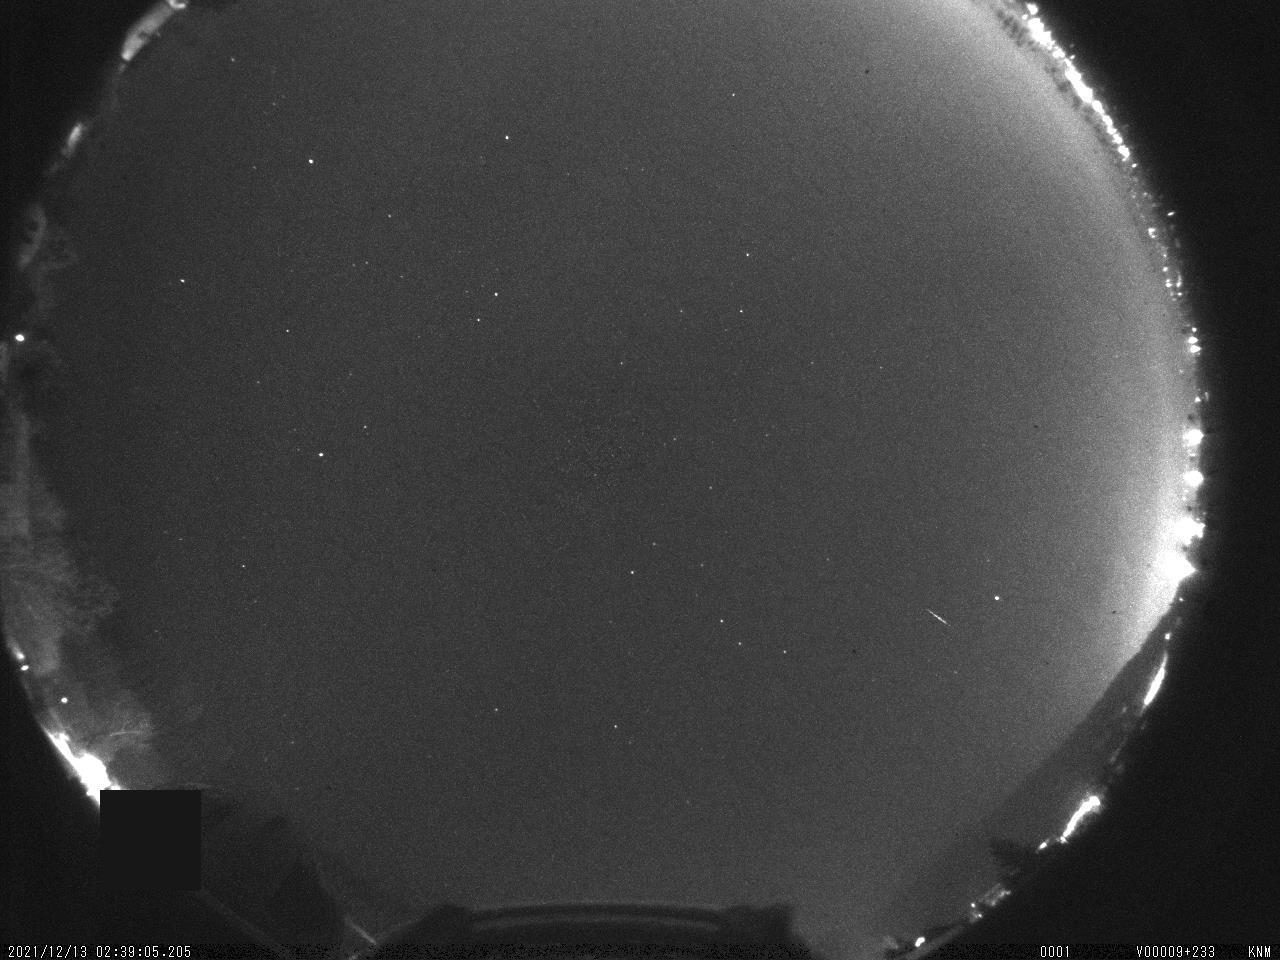meteor: (894, 596, 961, 644)
